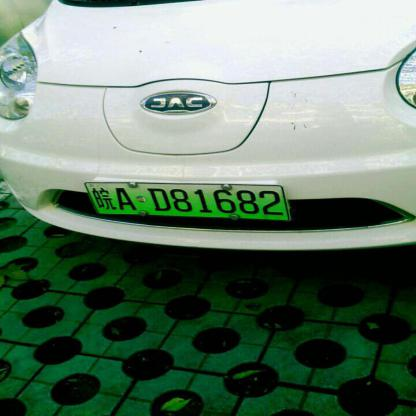lp: (83, 181, 286, 219)
